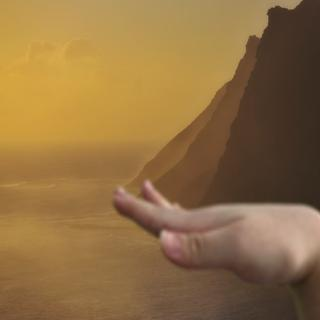Wait: (103, 164, 319, 298)
